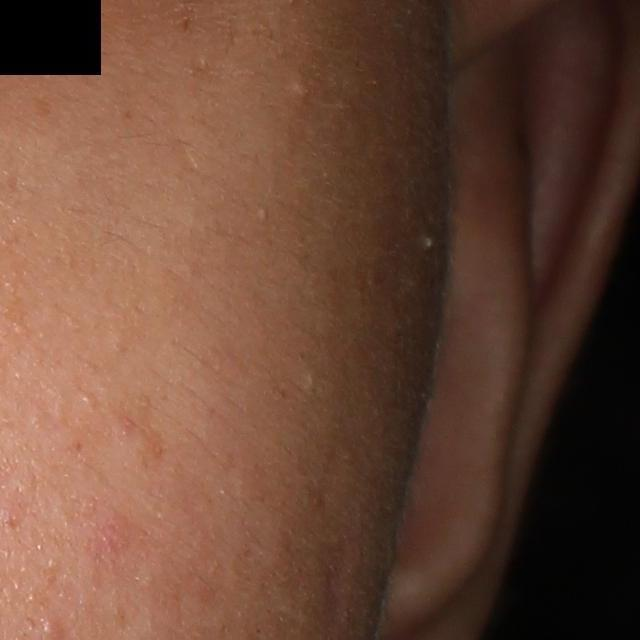comedo: (286, 72, 311, 108), (76, 388, 93, 409)
melasma: (30, 94, 55, 120), (179, 12, 193, 36)
